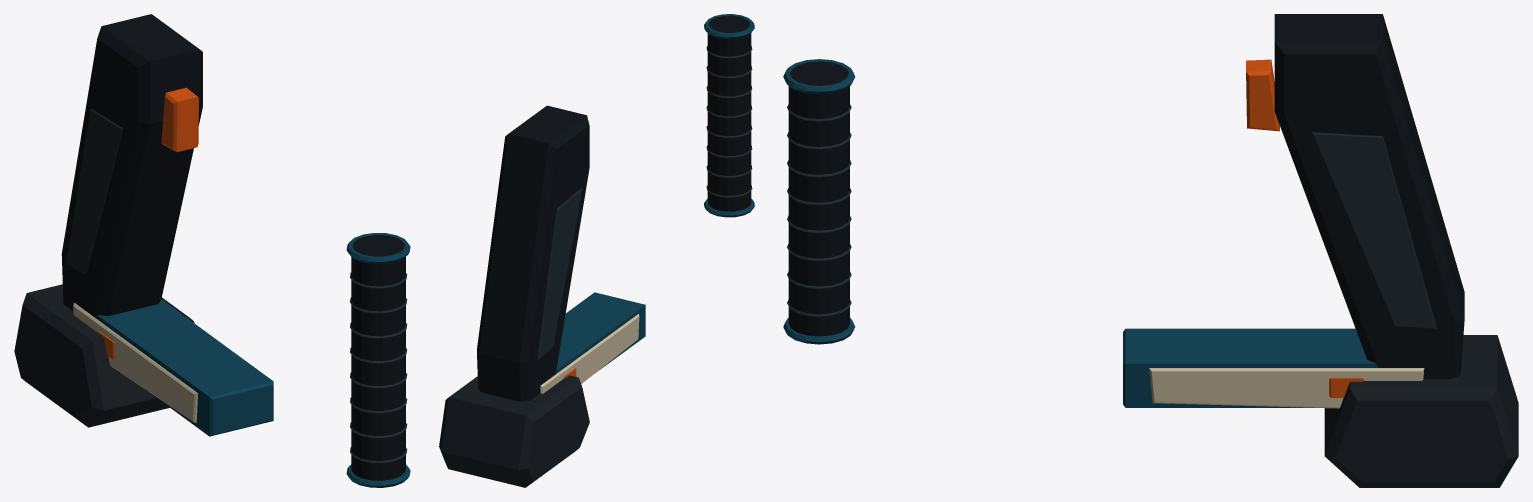
Rendered from NailgunBlue_Evolved_Grip.obj.
3 views of the same model, side by side, from view 1: azimuth 30°, elevation 25°; view 2: azimuth 150°, elevation 25°; view 3: azimuth 270°, elevation 25° (orthographic). The views are drawn at different scales.
Visible parts, largest first — view 1: Rubber, PetrolBlue, FrameBlack, GripRings, Ivory, LatchOrange; view 2: Rubber, FrameBlack, PetrolBlue, GripRings, Ivory; view 3: Rubber, FrameBlack, PetrolBlue, GripRings, Ivory, LatchOrange.
Part boxes in pixels (<box>): Rubber: <box>61,14,405,480</box>; PetrolBlue: <box>96,233,410,487</box>; FrameBlack: <box>14,284,194,427</box>; GripRings: <box>66,108,407,463</box>; Ivory: <box>73,303,197,422</box>; LatchOrange: <box>98,87,198,359</box>; Rubber: <box>477,15,751,401</box>; FrameBlack: <box>439,375,589,487</box>; PetrolBlue: <box>556,14,754,373</box>; GripRings: <box>537,46,752,360</box>; Ivory: <box>540,314,639,393</box>; Rubber: <box>788,14,1464,379</box>; FrameBlack: <box>1324,335,1518,487</box>; PetrolBlue: <box>783,59,1378,407</box>; GripRings: <box>787,104,1436,328</box>; Ivory: <box>1149,368,1424,408</box>; LatchOrange: <box>1246,59,1364,397</box>.
Bounding box in the file's own units: 0.136 × 0.451 × 0.693.
